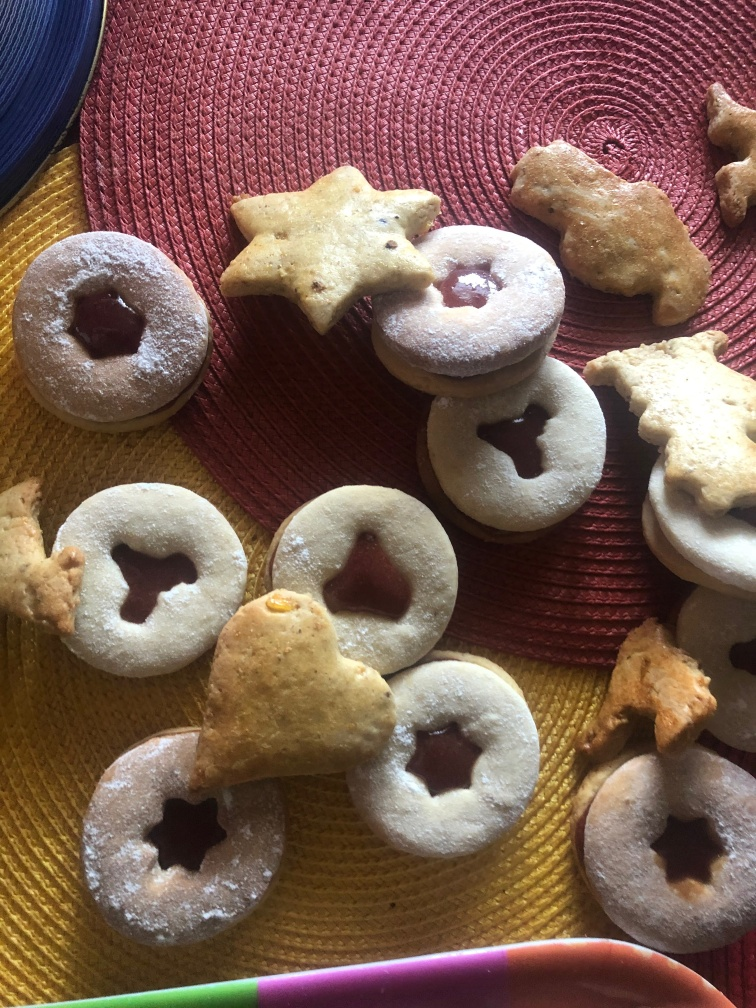christmas shortbread with jam: (88, 732, 284, 950), (7, 228, 212, 429), (53, 483, 249, 664), (588, 760, 756, 958), (271, 484, 455, 661), (394, 651, 545, 862), (431, 360, 606, 529), (388, 222, 564, 388)
heart: (189, 588, 390, 803)
santa claus: (505, 132, 711, 327)
star: (226, 162, 441, 322)
